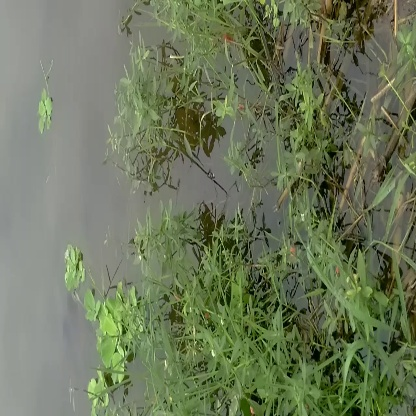grass: (68, 250, 138, 383)
